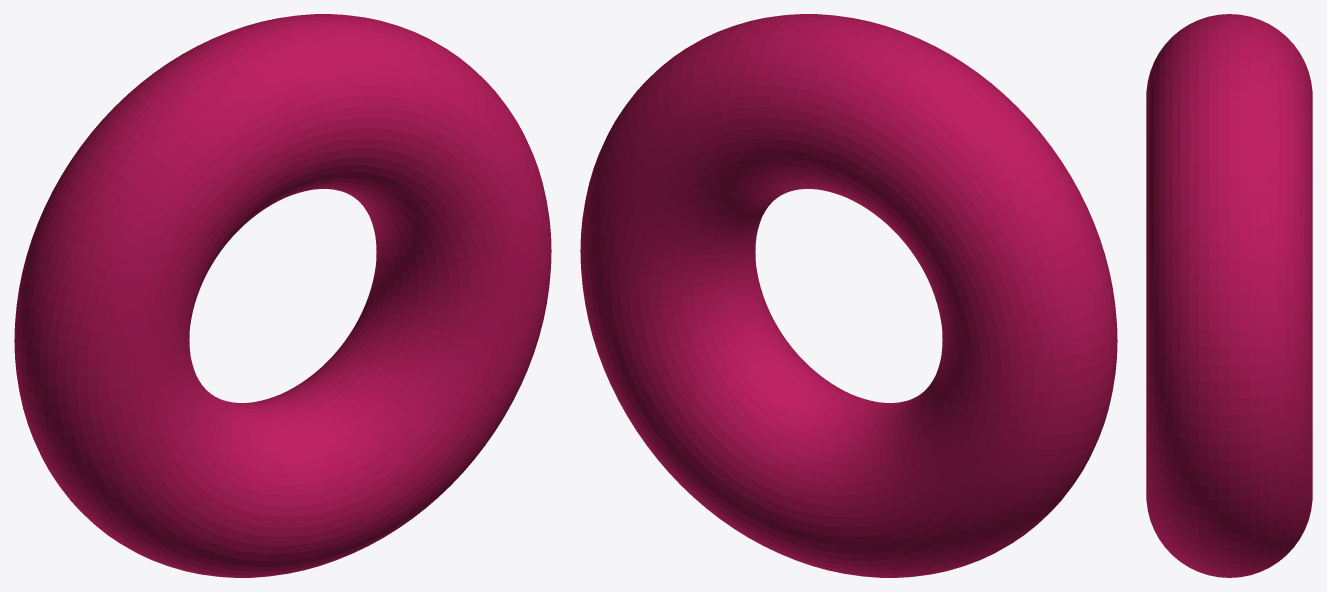
3 views of the same model, side by side, from view 1: azimuth 30°, elevation 25°; view 2: azimuth 150°, elevation 25°; view 3: azimuth 270°, elevation 25° (orthographic). The views are drawn at different scales.
Visible parts, largest first — view 1: world; view 2: world; view 3: world.
Boxes of the visible parts, x1,y1,x2,y2 form: world: (14,14,551,577); world: (580,14,1117,577); world: (1146,14,1312,577).
Size of the model in its own units: 30.27 by 30.27 by 8.92.
